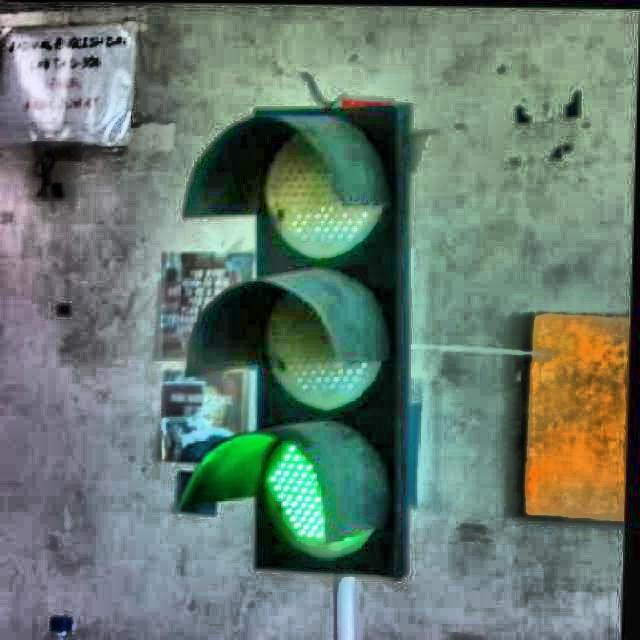green: (235, 99, 398, 588)
